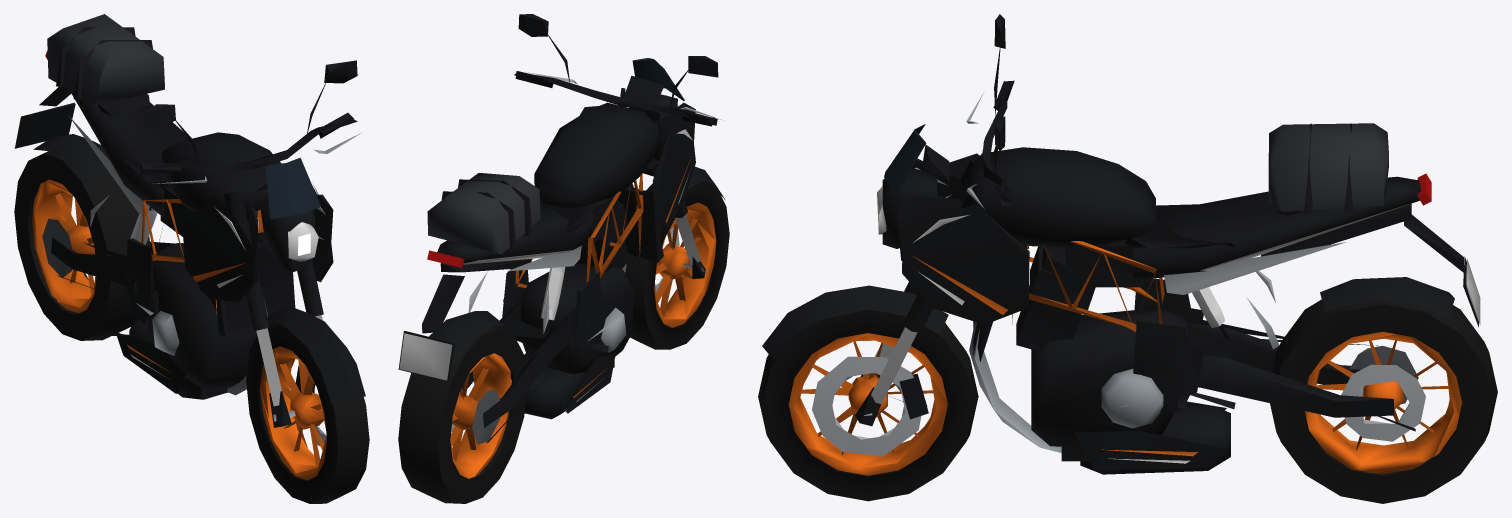
The model's file is bike03_duke390.glb.
3 renders of one model, left to right at view 1: azimuth 30°, elevation 25°; view 2: azimuth 150°, elevation 25°; view 3: azimuth 270°, elevation 25°, orthographic. The views are drawn at different scales.
Parts seen in each view (by area): view 1: body, wheel_rear, wheel_front, luggage; view 2: body, wheel_rear, wheel_front, luggage; view 3: body, wheel_rear, wheel_front, luggage.
Part boxes in pixels (box(x1,y1,x2,y2)): body: box(14, 60, 365, 427); wheel_rear: box(14, 151, 150, 340); wheel_front: box(246, 325, 369, 503); luggage: box(47, 14, 164, 105); body: box(398, 14, 725, 443); wheel_rear: box(398, 326, 526, 503); wheel_front: box(625, 181, 729, 349); luggage: box(427, 173, 540, 254); body: box(762, 14, 1480, 474); wheel_rear: box(1270, 299, 1497, 503); wheel_front: box(758, 309, 978, 501); luggage: box(1268, 123, 1388, 213).
Bounding box in the file's own units: 0.7605 × 1.25 × 1.97.
